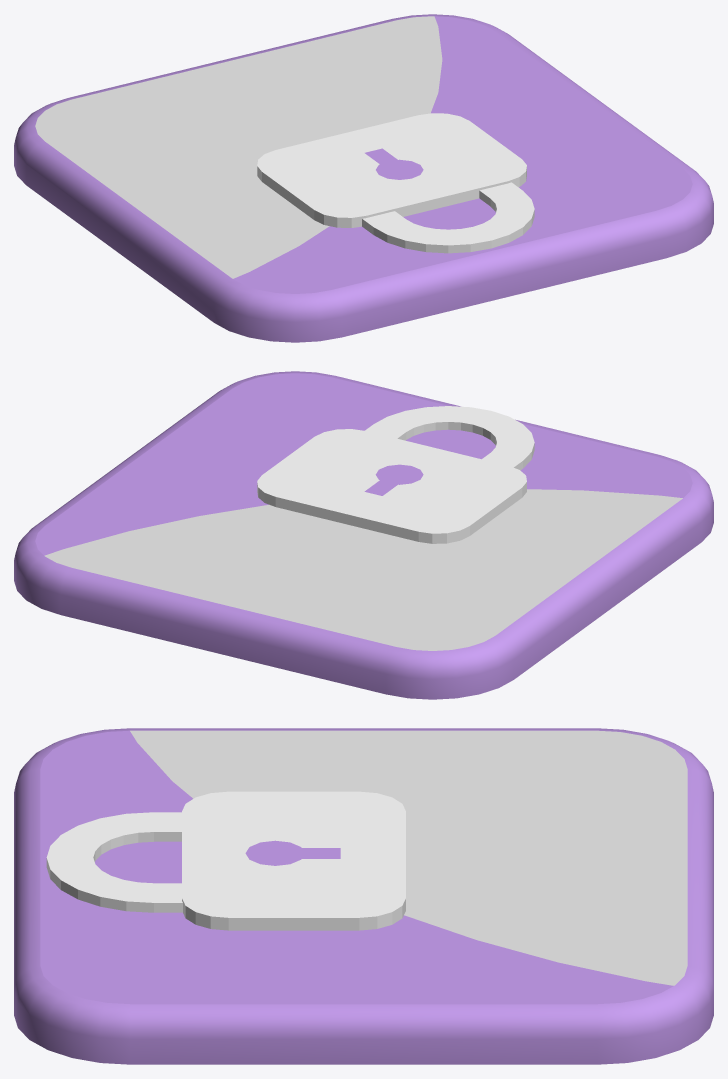
The model's file is Kit_SlotLocked.fbx.
3 views of the same model, one above another, from view 1: azimuth 30°, elevation 25°; view 2: azimuth 150°, elevation 25°; view 3: azimuth 270°, elevation 25° (orthographic). The views are drawn at different scales.
Parts seen in each view (by area): view 1: Kit_SlotLocked; view 2: Kit_SlotLocked; view 3: Kit_SlotLocked.
Boxes of the visible parts, box(x1,y1,x2,y2) form: Kit_SlotLocked: box(14, 14, 713, 342); Kit_SlotLocked: box(14, 371, 713, 699); Kit_SlotLocked: box(14, 728, 713, 1064).
Size of the model in its own units: 90 by 9 by 90.
